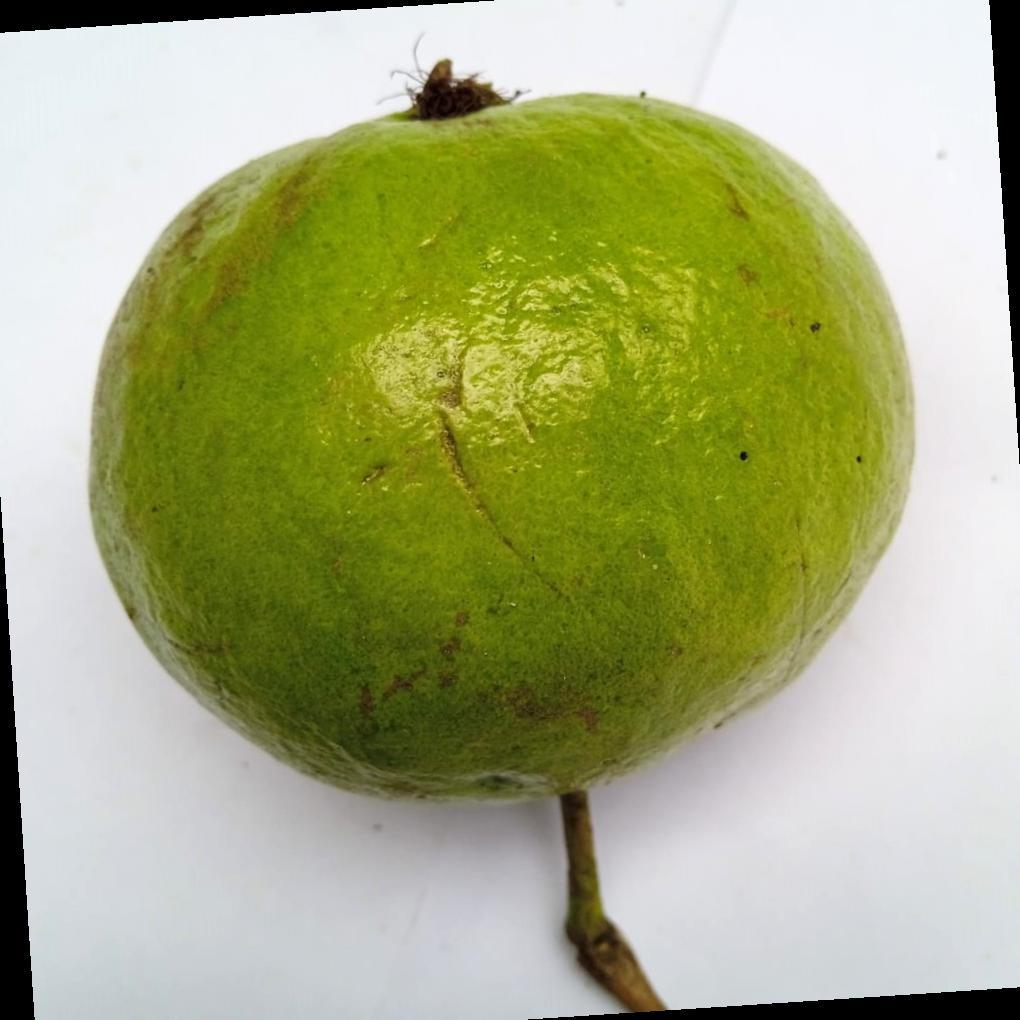FreshGuava: (87, 64, 919, 807)
